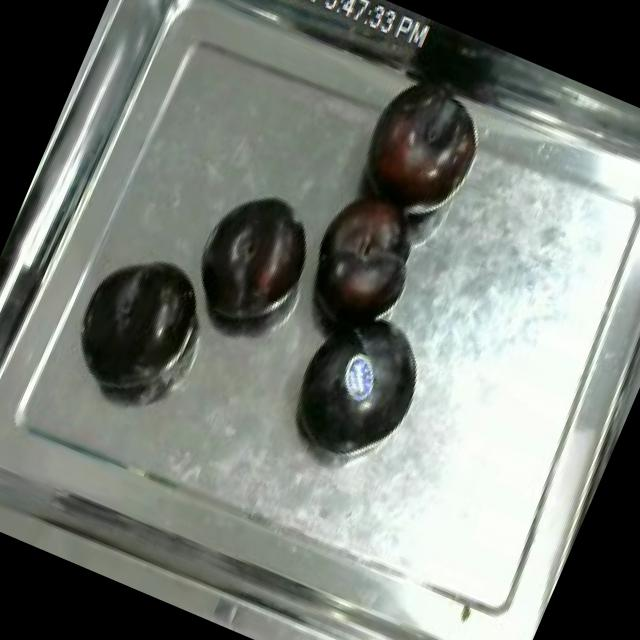Fruit: (272, 286, 446, 482), (60, 236, 216, 411), (176, 175, 330, 346), (343, 66, 498, 233), (288, 171, 436, 343)
